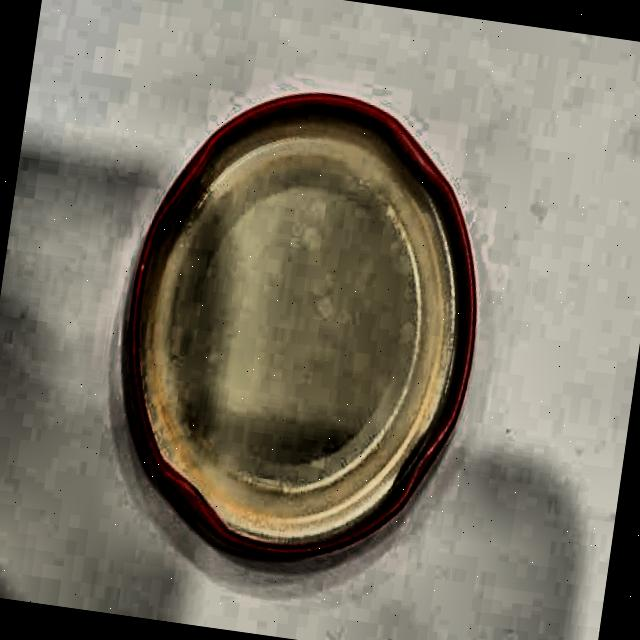metal: (97, 66, 510, 580)
